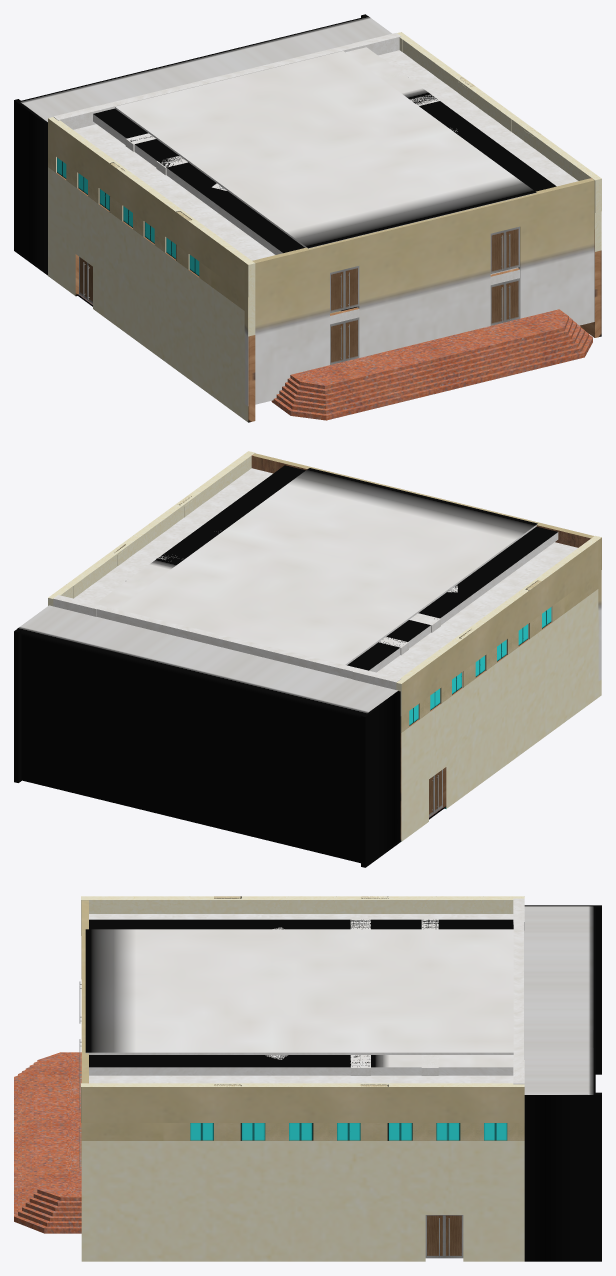
The model's file is Hoitruong_A2_New.fbx.
3 renders of one model, top to bottom at view 1: azimuth 30°, elevation 25°; view 2: azimuth 150°, elevation 25°; view 3: azimuth 270°, elevation 25°, orthographic. The views are drawn at different scales.
Parts seen in each view (by area): view 1: UV5_hoitruong; view 2: UV5_hoitruong; view 3: UV5_hoitruong.
Part boxes in pixels (x1,y1,x2,y2): UV5_hoitruong: (14, 14, 601, 422); UV5_hoitruong: (14, 451, 601, 867); UV5_hoitruong: (14, 896, 601, 1261).
Size of the model in its own units: 2283 by 980 by 2972.
1 material, 1 textured.
